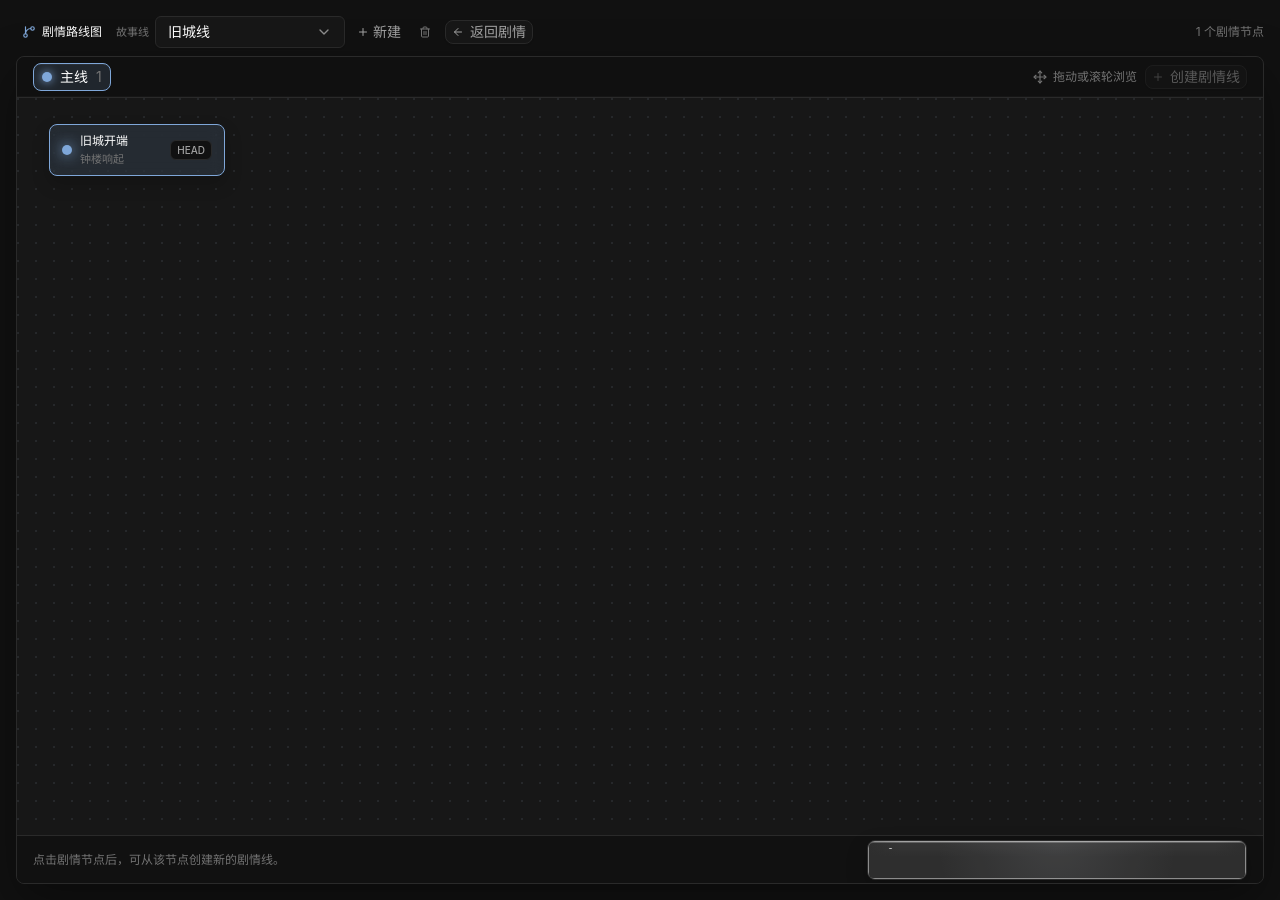
it: InteractiveLayout › switches the route map when choosing another story in timeline view
Expected: the text "旧城开端" is shown, [80,133,128,148]
Click the dropdown named "选择故事线" at point(250, 32), box [155,16,345,48]
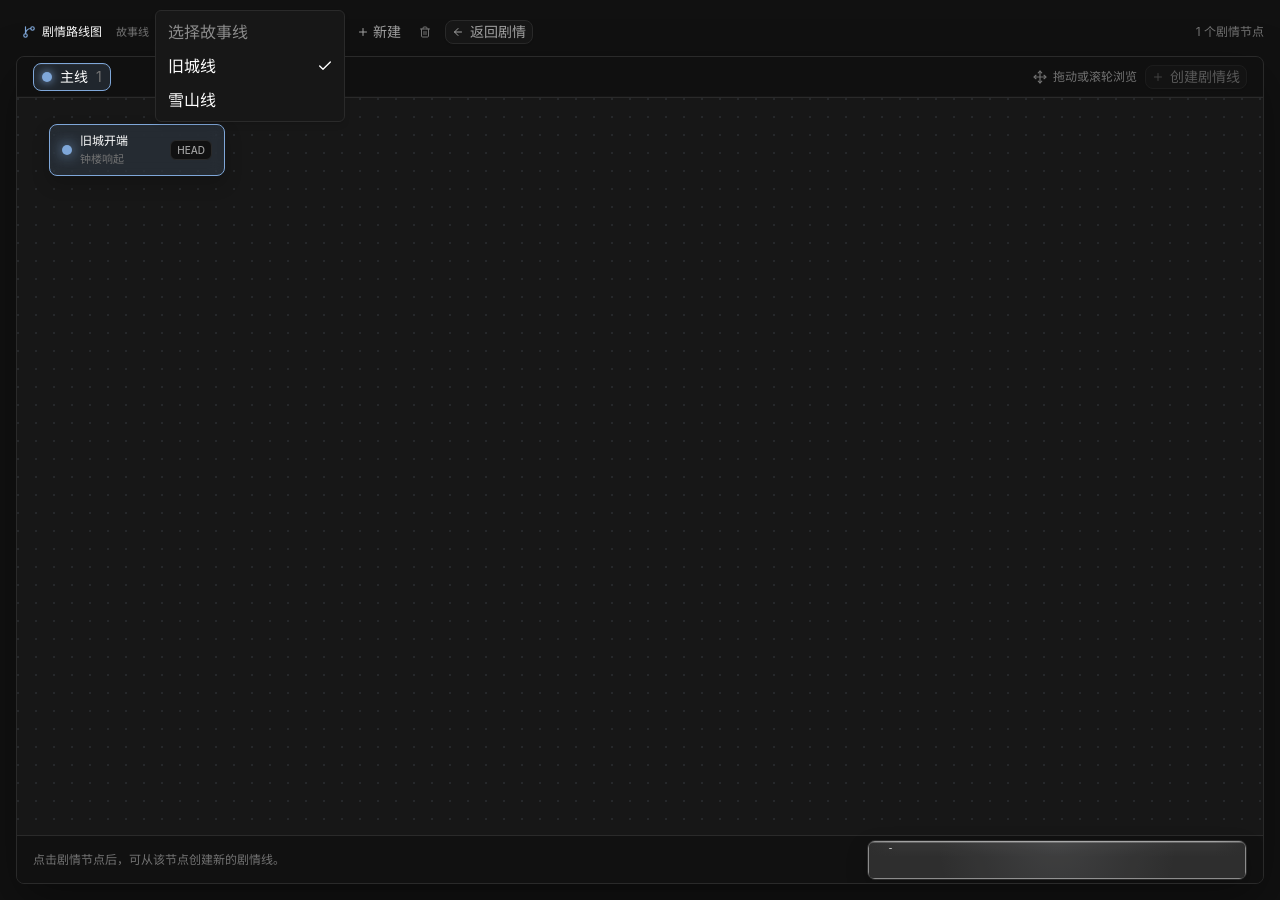
Click the option "雪山线" at point(192, 100), box [168,90,216,110]
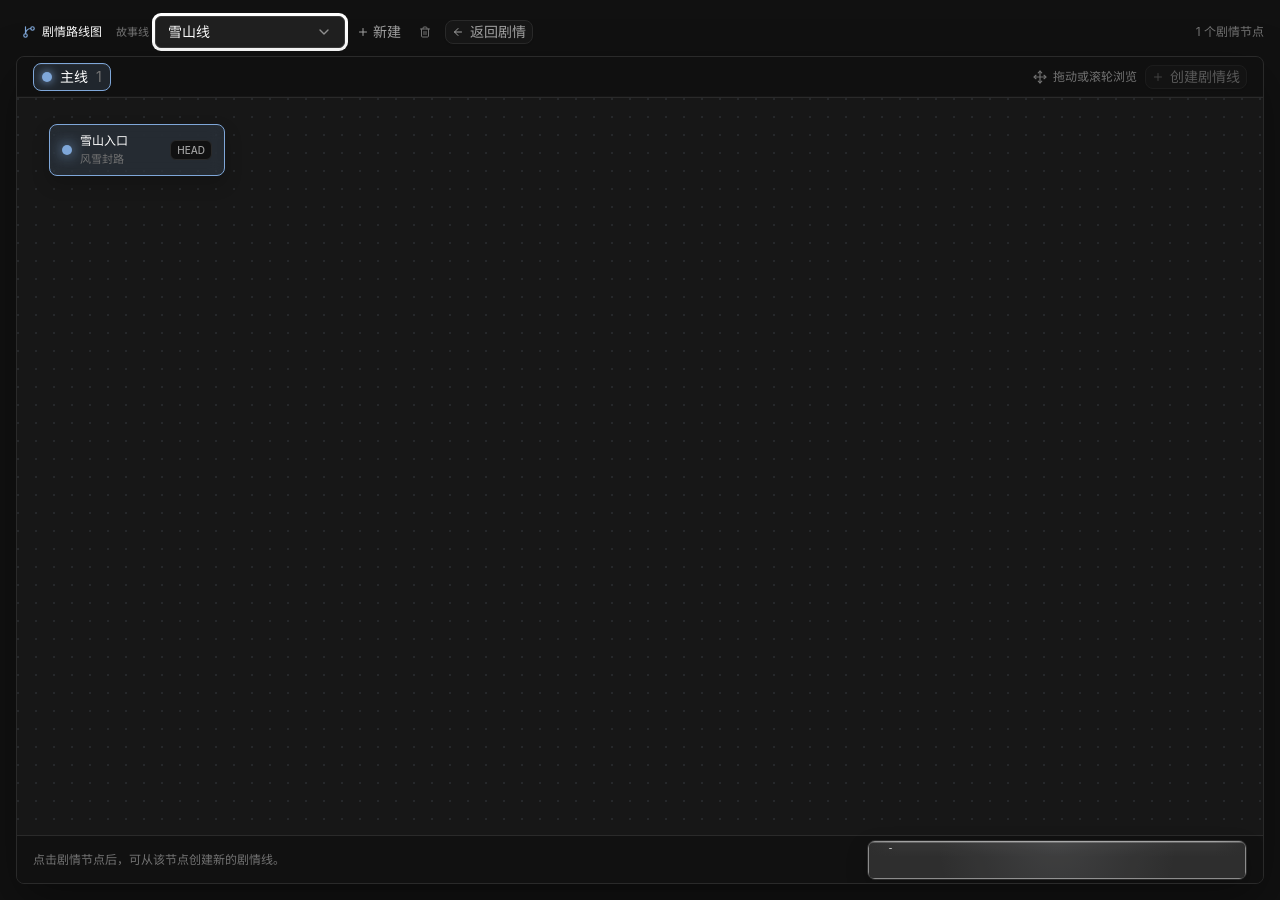
Expected: the text "雪山入口" is shown, [80,133,128,148]
Expected: the button "旧城开端" is gone
